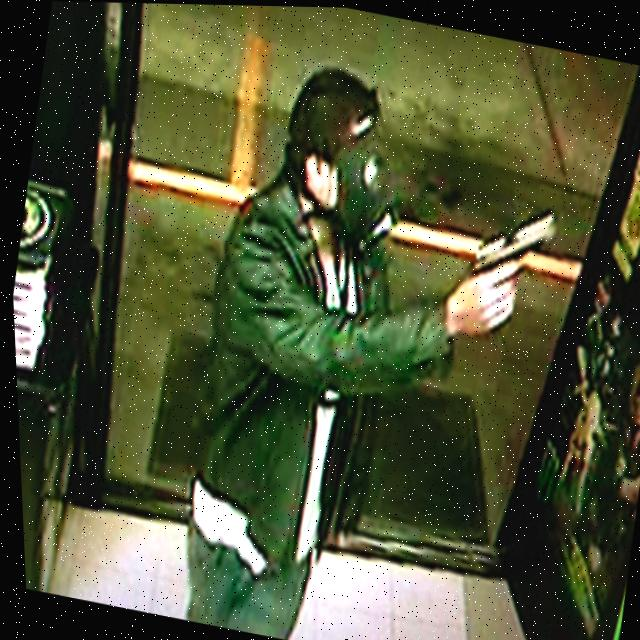pistol: (469, 194, 562, 287)
